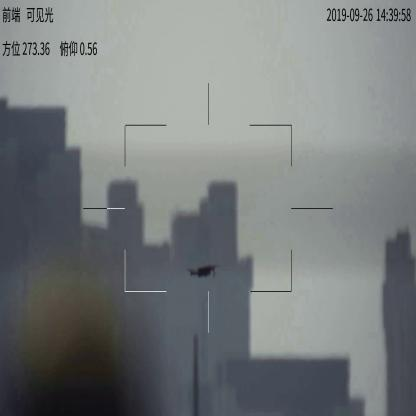uav: (185, 263, 221, 279)
